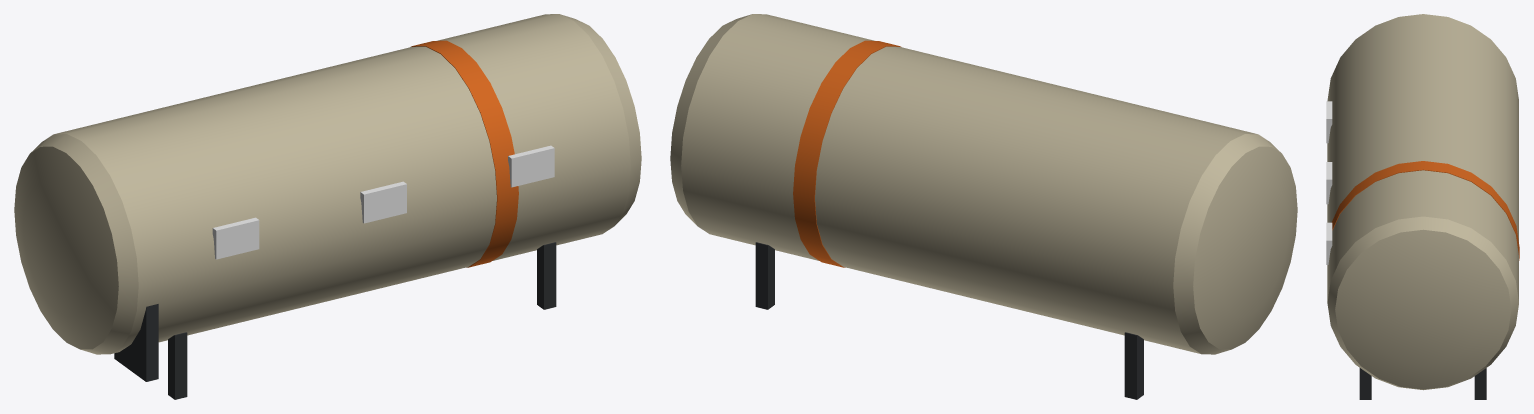
File: hab-can.glb
3 views of the same model, side by side, from view 1: azimuth 30°, elevation 25°; view 2: azimuth 150°, elevation 25°; view 3: azimuth 270°, elevation 25° (orthographic). The views are drawn at different scales.
Visible parts, largest first — view 1: Piece_lod0; view 2: Piece_lod0; view 3: Piece_lod0.
Boxes of the visible parts, x1,y1,x2,y2 form: Piece_lod0: [14, 14, 641, 399]; Piece_lod0: [670, 14, 1297, 399]; Piece_lod0: [1326, 14, 1519, 399].
Size of what is drawn, in the model's own units: 8.9 by 3.81 by 3.23.
